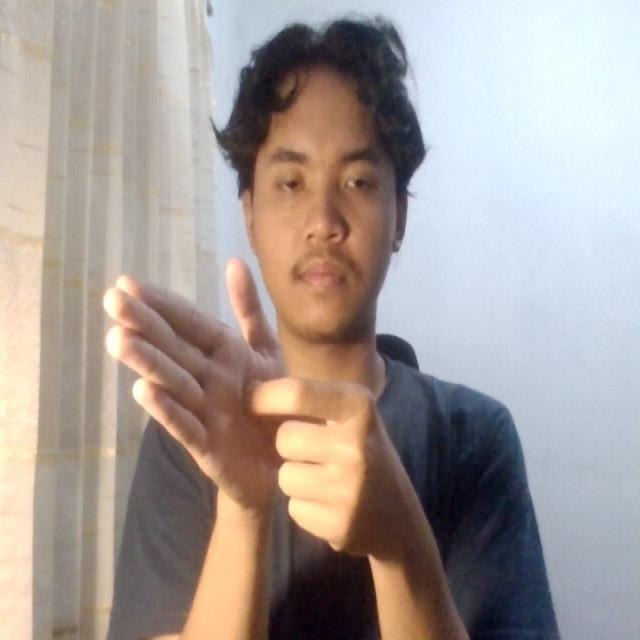L: (93, 246, 410, 570)
